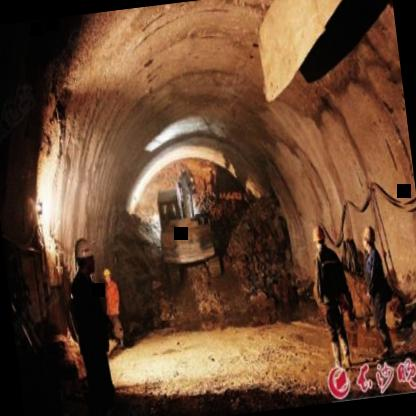helmet: (72, 232, 99, 276), (356, 220, 380, 256), (306, 220, 330, 253), (100, 262, 116, 286)
